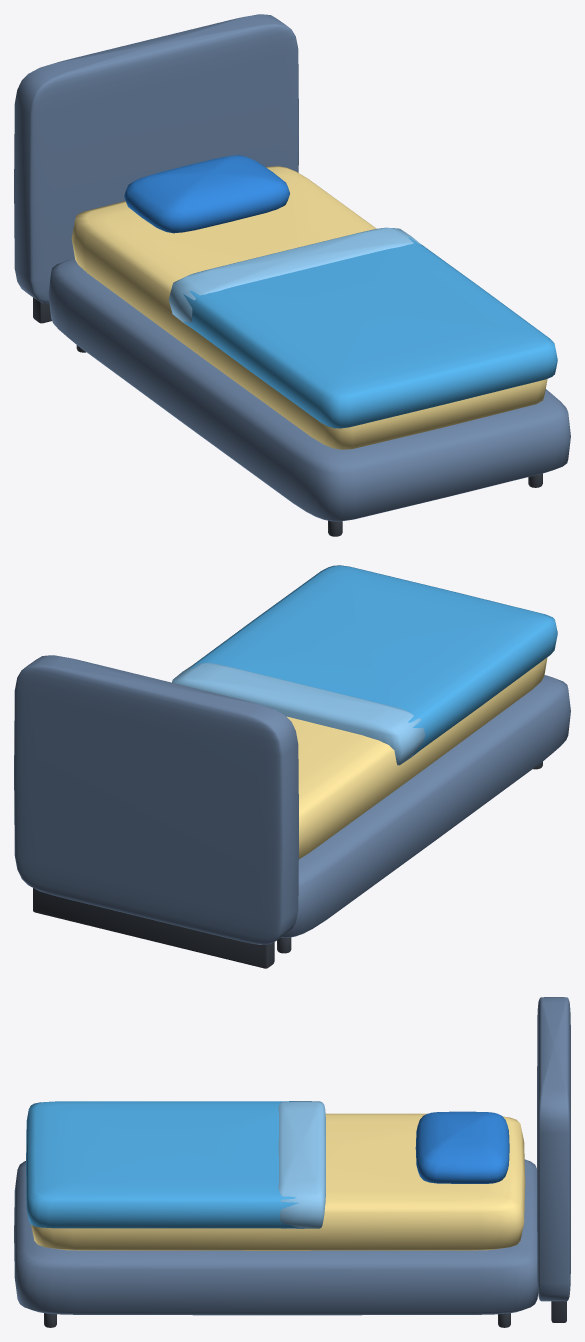
The model's file is cama_solteiro_estofada_azul.glb.
3 views of the same model, one above another, from view 1: azimuth 30°, elevation 25°; view 2: azimuth 150°, elevation 25°; view 3: azimuth 270°, elevation 25° (orthographic). The views are drawn at different scales.
Visible parts, largest first — view 1: cama_solteiro_estofada_azul; view 2: cama_solteiro_estofada_azul; view 3: cama_solteiro_estofada_azul.
Boxes of the visible parts, x1,y1,x2,y2 form: cama_solteiro_estofada_azul: [14, 14, 570, 536]; cama_solteiro_estofada_azul: [14, 565, 570, 968]; cama_solteiro_estofada_azul: [14, 997, 570, 1327].
Size of the model in its own units: 1.08 by 1 by 2.13.
1 material, 1 textured.
